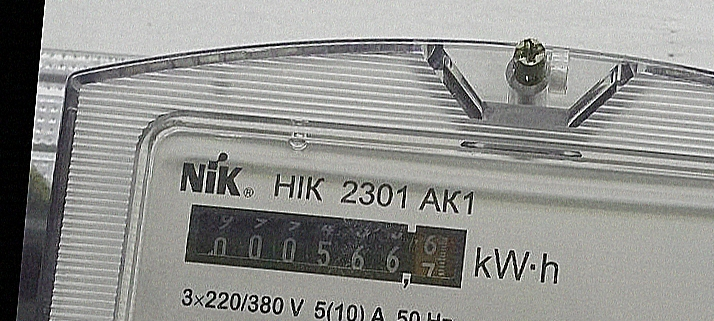0: (279, 234, 300, 265), (246, 230, 265, 261), (210, 232, 231, 257)
5: (314, 237, 335, 268)
6: (383, 242, 405, 274), (347, 241, 369, 271), (423, 232, 441, 258)
7: (420, 260, 437, 279)
9: (216, 210, 236, 232)
screen: (175, 195, 474, 297)
